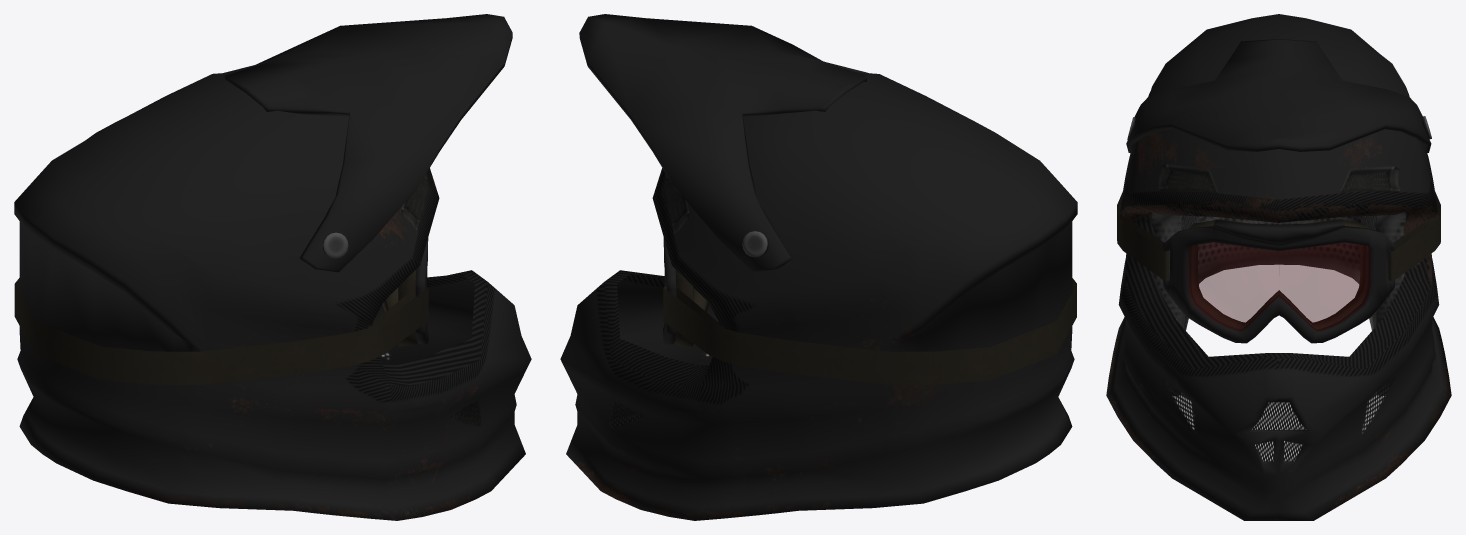
File: capacete_off_road.glb
3 views of the same model, side by side, from view 1: azimuth 30°, elevation 25°; view 2: azimuth 150°, elevation 25°; view 3: azimuth 270°, elevation 25° (orthographic). The views are drawn at different scales.
Parts seen in each view (by area): view 1: Object_2; view 2: Object_2; view 3: Object_2.
Part boxes in pixels (x1,y1,x2,y2): Object_2: (14, 14, 531, 520); Object_2: (560, 14, 1077, 520); Object_2: (1106, 14, 1451, 520).
Size of the model in its own units: 30.71 by 26.37 by 21.9.
Materials: 1 (1 with a texture image).
